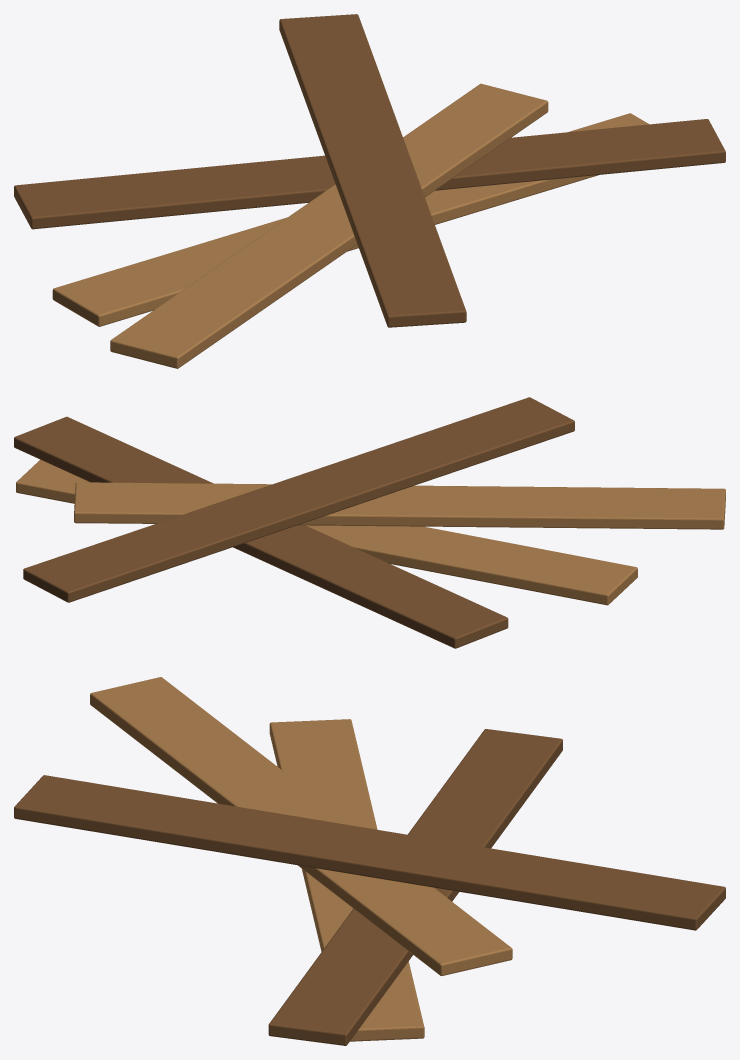
Rendered from Furn_Planks.fbx.
3 views of the same model, one above another, from view 1: azimuth 30°, elevation 25°; view 2: azimuth 150°, elevation 25°; view 3: azimuth 270°, elevation 25° (orthographic). The views are drawn at different scales.
Visible parts, largest first — view 1: Furn_Planks; view 2: Furn_Planks; view 3: Furn_Planks.
Boxes of the visible parts, x1,y1,x2,y2 form: Furn_Planks: (14, 14, 725, 368); Furn_Planks: (14, 397, 725, 648); Furn_Planks: (14, 677, 725, 1045).
Bounding box in the file's own units: 1.78 × 0.12 × 1.55.
